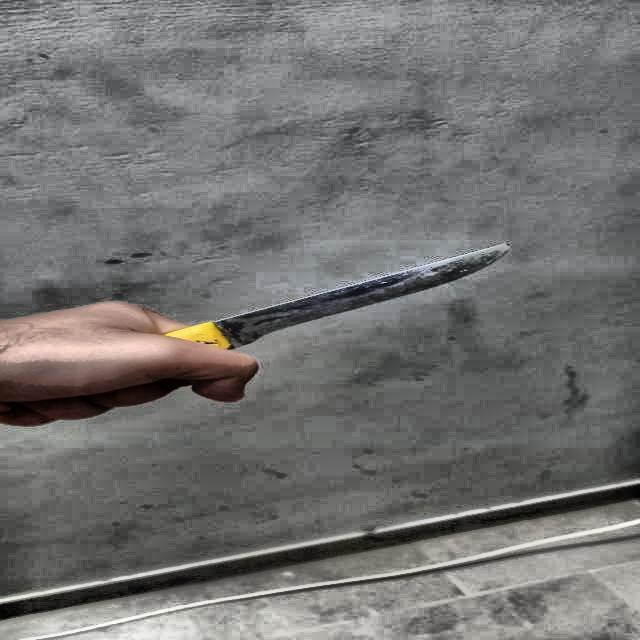knife: (161, 244, 511, 348)
